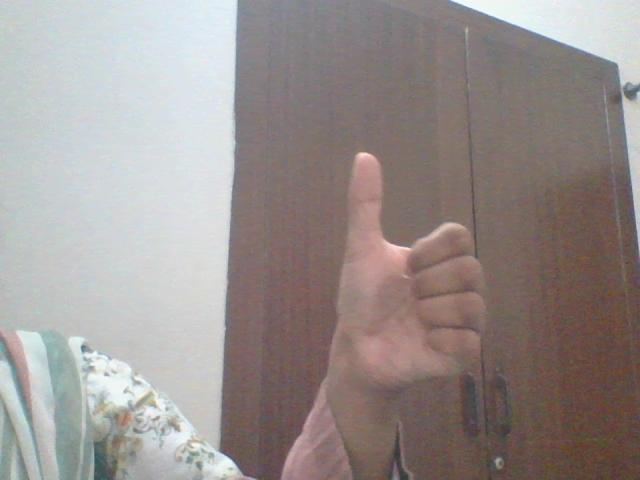thumbs-up: (331, 144, 493, 389)
